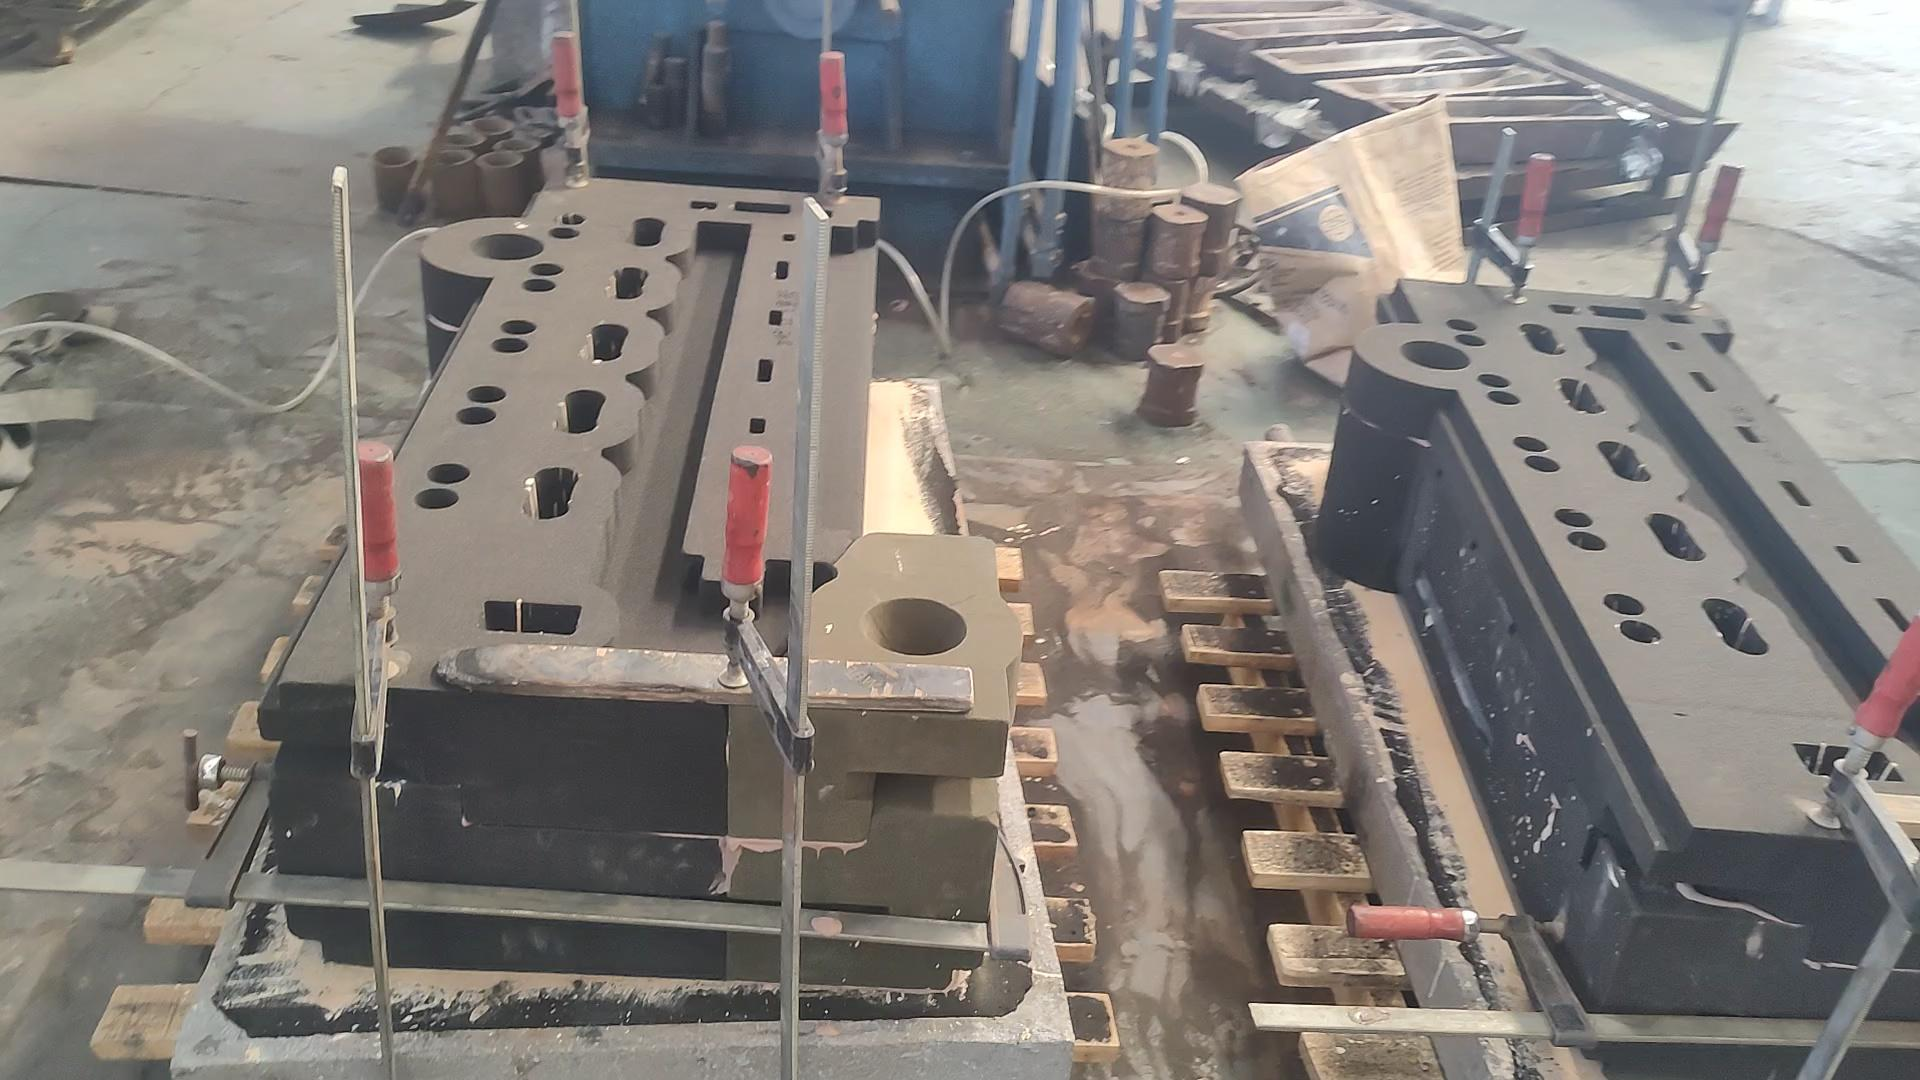pouring hole: (858, 597, 967, 655), (1400, 339, 1472, 371), (469, 233, 545, 261), (372, 145, 415, 166), (433, 132, 485, 146), (471, 117, 514, 135), (480, 152, 525, 167), (492, 137, 539, 152), (426, 149, 472, 164)
